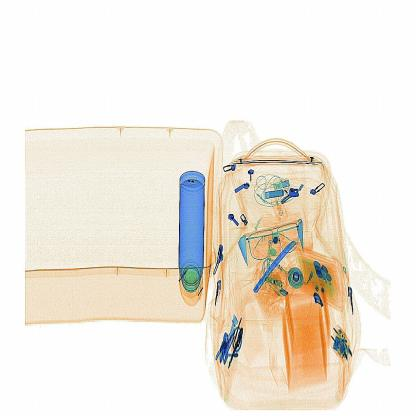pliers: (246, 228, 297, 298)
